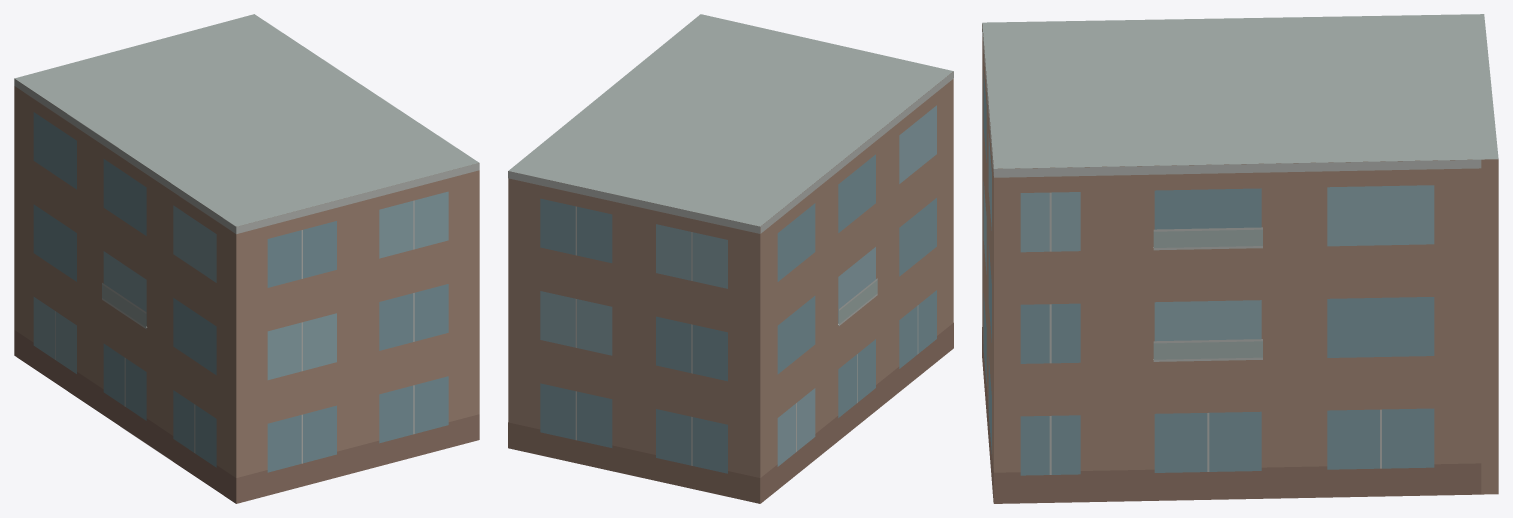
File: survey-upis-32471948.glb
3 renders of one model, left to right at view 1: azimuth 30°, elevation 25°; view 2: azimuth 150°, elevation 25°; view 3: azimuth 270°, elevation 25°, orthographic. The views are drawn at different scales.
Parts seen in each view (by area): view 1: survey-upis-32471948.tmp; view 2: survey-upis-32471948.tmp; view 3: survey-upis-32471948.tmp.
Boxes of the visible parts, x1,y1,x2,y2 form: survey-upis-32471948.tmp: [14, 14, 479, 503]; survey-upis-32471948.tmp: [508, 14, 953, 503]; survey-upis-32471948.tmp: [982, 14, 1498, 503].
Bounding box in the file's own units: 9.08 × 9.15 × 12.79.
